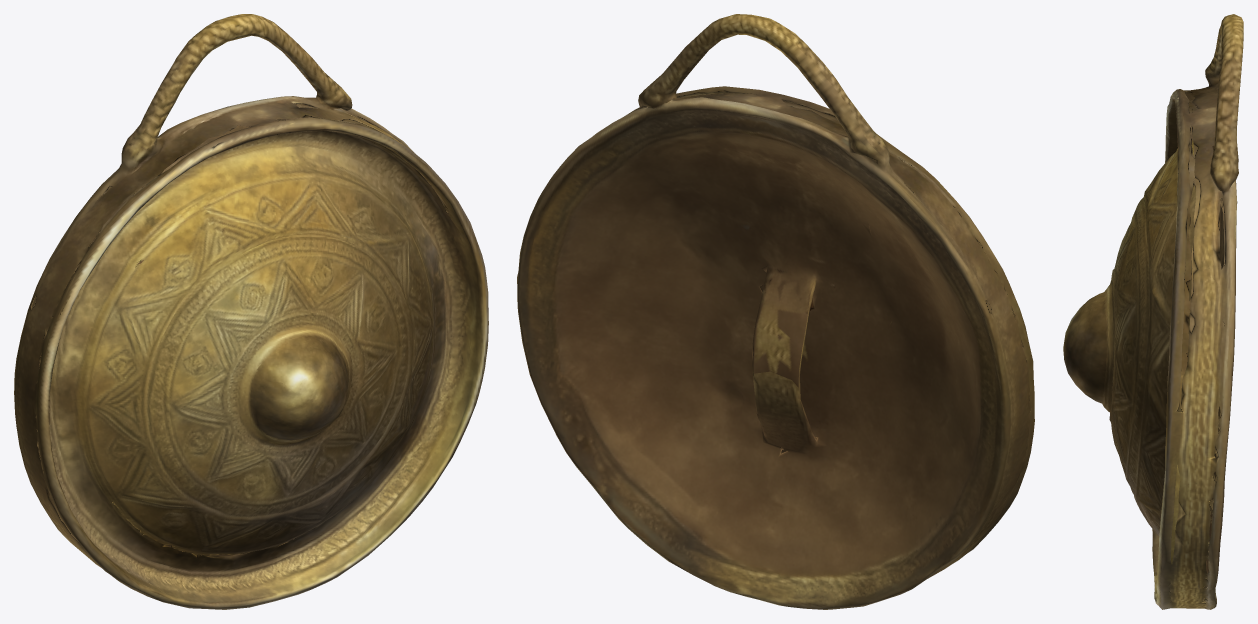
3 views of the same model, side by side, from view 1: azimuth 30°, elevation 25°; view 2: azimuth 150°, elevation 25°; view 3: azimuth 270°, elevation 25° (orthographic). The views are drawn at different scales.
Size of the model in its own units: 0.8261 by 0.9636 by 0.2816.
1 material, 1 textured.
